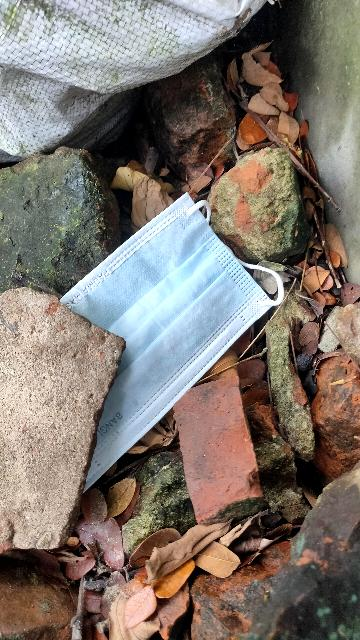mask: (25, 163, 293, 495)
